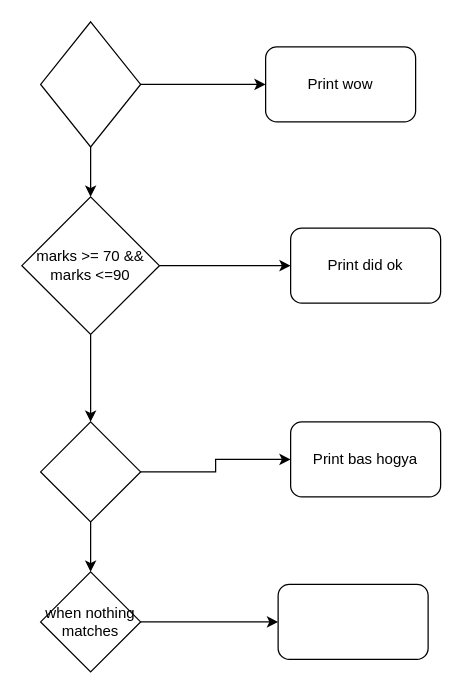
The diagram is 463 pixels wide and 694 high, and some of its shapes have lost their labels. The centre of each missing label's shape, as x and y in pixels:
"Damn no pocket money for me now" belongs at point 352,621.
"marks == 90" belongs at point 90,84.
"marks>= 50 && marks <= 70" belongs at point 90,471.
